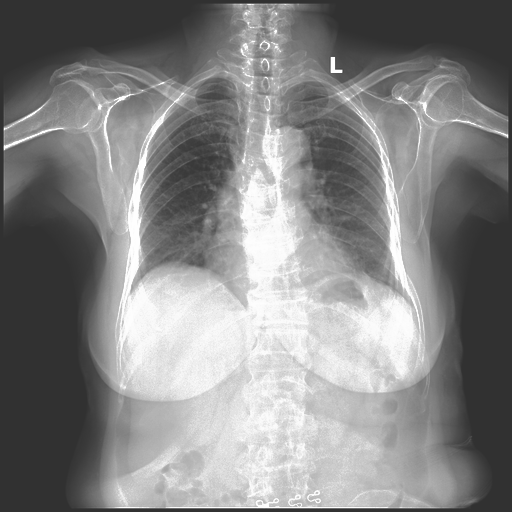Consolidation: (267, 126, 313, 178)
Nodule/Mass: (203, 245, 362, 286)
